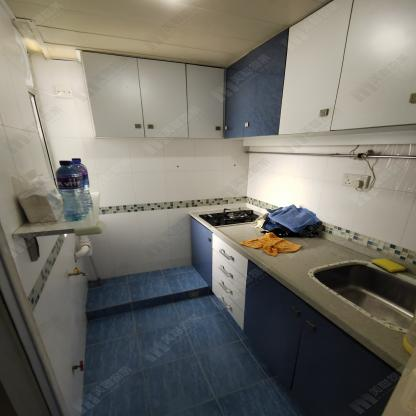Cupboard: (87, 1, 416, 139), (190, 216, 399, 414)
Sink: (317, 260, 416, 330)
Stove: (199, 208, 256, 226)
